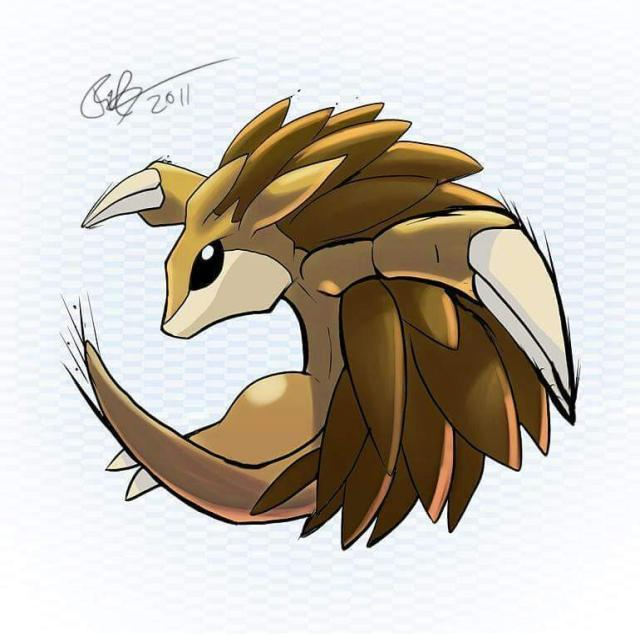Sandslash: (53, 93, 576, 529)
